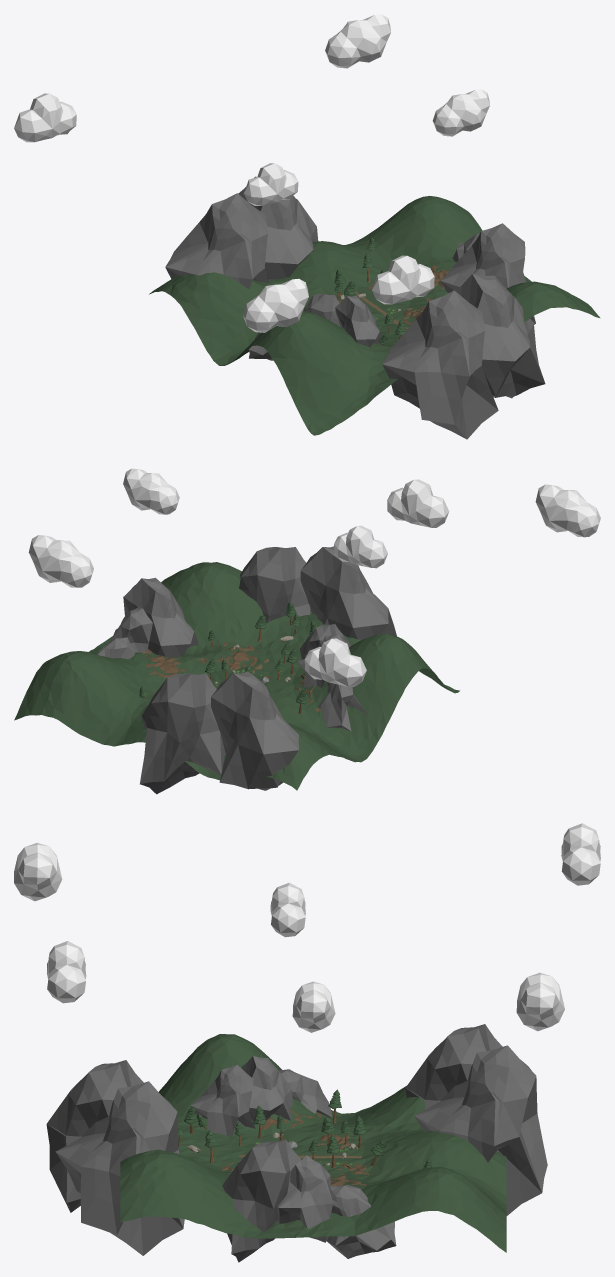
The model's file is Forest.fbx.
3 views of the same model, one above another, from view 1: azimuth 30°, elevation 25°; view 2: azimuth 150°, elevation 25°; view 3: azimuth 270°, elevation 25° (orthographic). The views are drawn at different scales.
Parts seen in each view (by area): view 1: Plane.003, Cloud1.002, Icosphere.022, Icosphere.016, Icosphere.023, Icosphere.017, Icosphere.012, Icosphere.005, Icosphere.008; view 2: Plane.003, Cloud1.002, Icosphere.017, Icosphere.016, Icosphere.022, Icosphere.023, Icosphere.012, Icosphere.009, Plane.026, Icosphere.013, Icosphere.005, Icosphere.014; view 3: Plane.003, Cloud1.002, Icosphere.017, Icosphere.023, Icosphere.012, Icosphere.022, Icosphere.016, Icosphere.005, Icosphere.013, Icosphere.014, Icosphere.008, Icosphere.009.
Boxes of the visible parts, left/top/right/bottom form: Plane.003: left=149, top=196, right=600, bottom=435; Cloud1.002: left=14, top=14, right=489, bottom=332; Icosphere.022: left=382, top=290, right=498, bottom=439; Icosphere.016: left=165, top=193, right=269, bottom=288; Icosphere.023: left=455, top=274, right=545, bottom=398; Icosphere.017: left=238, top=176, right=318, bottom=279; Icosphere.012: left=440, top=223, right=535, bottom=324; Icosphere.005: left=335, top=296, right=381, bottom=347; Icosphere.008: left=304, top=293, right=340, bottom=326; Plane.003: left=14, top=562, right=459, bottom=790; Cloud1.002: left=28, top=468, right=600, bottom=686; Icosphere.017: left=140, top=673, right=225, bottom=794; Icosphere.016: left=211, top=671, right=298, bottom=790; Icosphere.022: left=300, top=546, right=396, bottom=639; Icosphere.023: left=239, top=547, right=311, bottom=623; Icosphere.012: left=123, top=577, right=198, bottom=657; Icosphere.009: left=318, top=682, right=368, bottom=731; Plane.026: left=142, top=643, right=321, bottom=711; Icosphere.013: left=111, top=607, right=152, bottom=652; Icosphere.005: left=300, top=624, right=351, bottom=659; Icosphere.014: left=97, top=637, right=135, bottom=658; Plane.003: left=120, top=1034, right=506, bottom=1252; Cloud1.002: left=14, top=823, right=600, bottom=1032; Icosphere.017: left=414, top=1045, right=547, bottom=1215; Icosphere.023: left=55, top=1081, right=184, bottom=1255; Icosphere.012: left=222, top=1139, right=301, bottom=1262; Icosphere.022: left=46, top=1060, right=143, bottom=1212; Icosphere.016: left=405, top=1024, right=502, bottom=1109; Icosphere.005: left=190, top=1064, right=255, bottom=1137; Icosphere.013: left=277, top=1155, right=333, bottom=1242; Icosphere.014: left=326, top=1184, right=396, bottom=1258; Icosphere.008: left=241, top=1056, right=292, bottom=1120; Icosphere.009: left=279, top=1069, right=332, bottom=1117.
Bounding box in the file's own units: 112 × 68.37 × 124.
